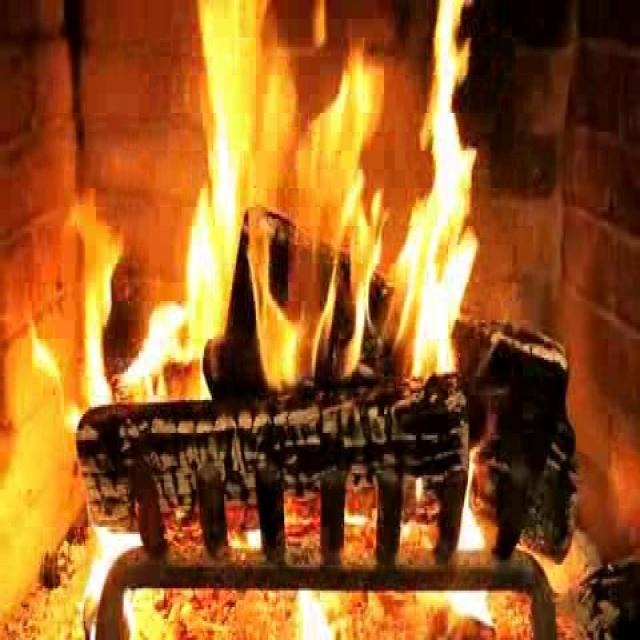fire: (153, 18, 488, 418)
